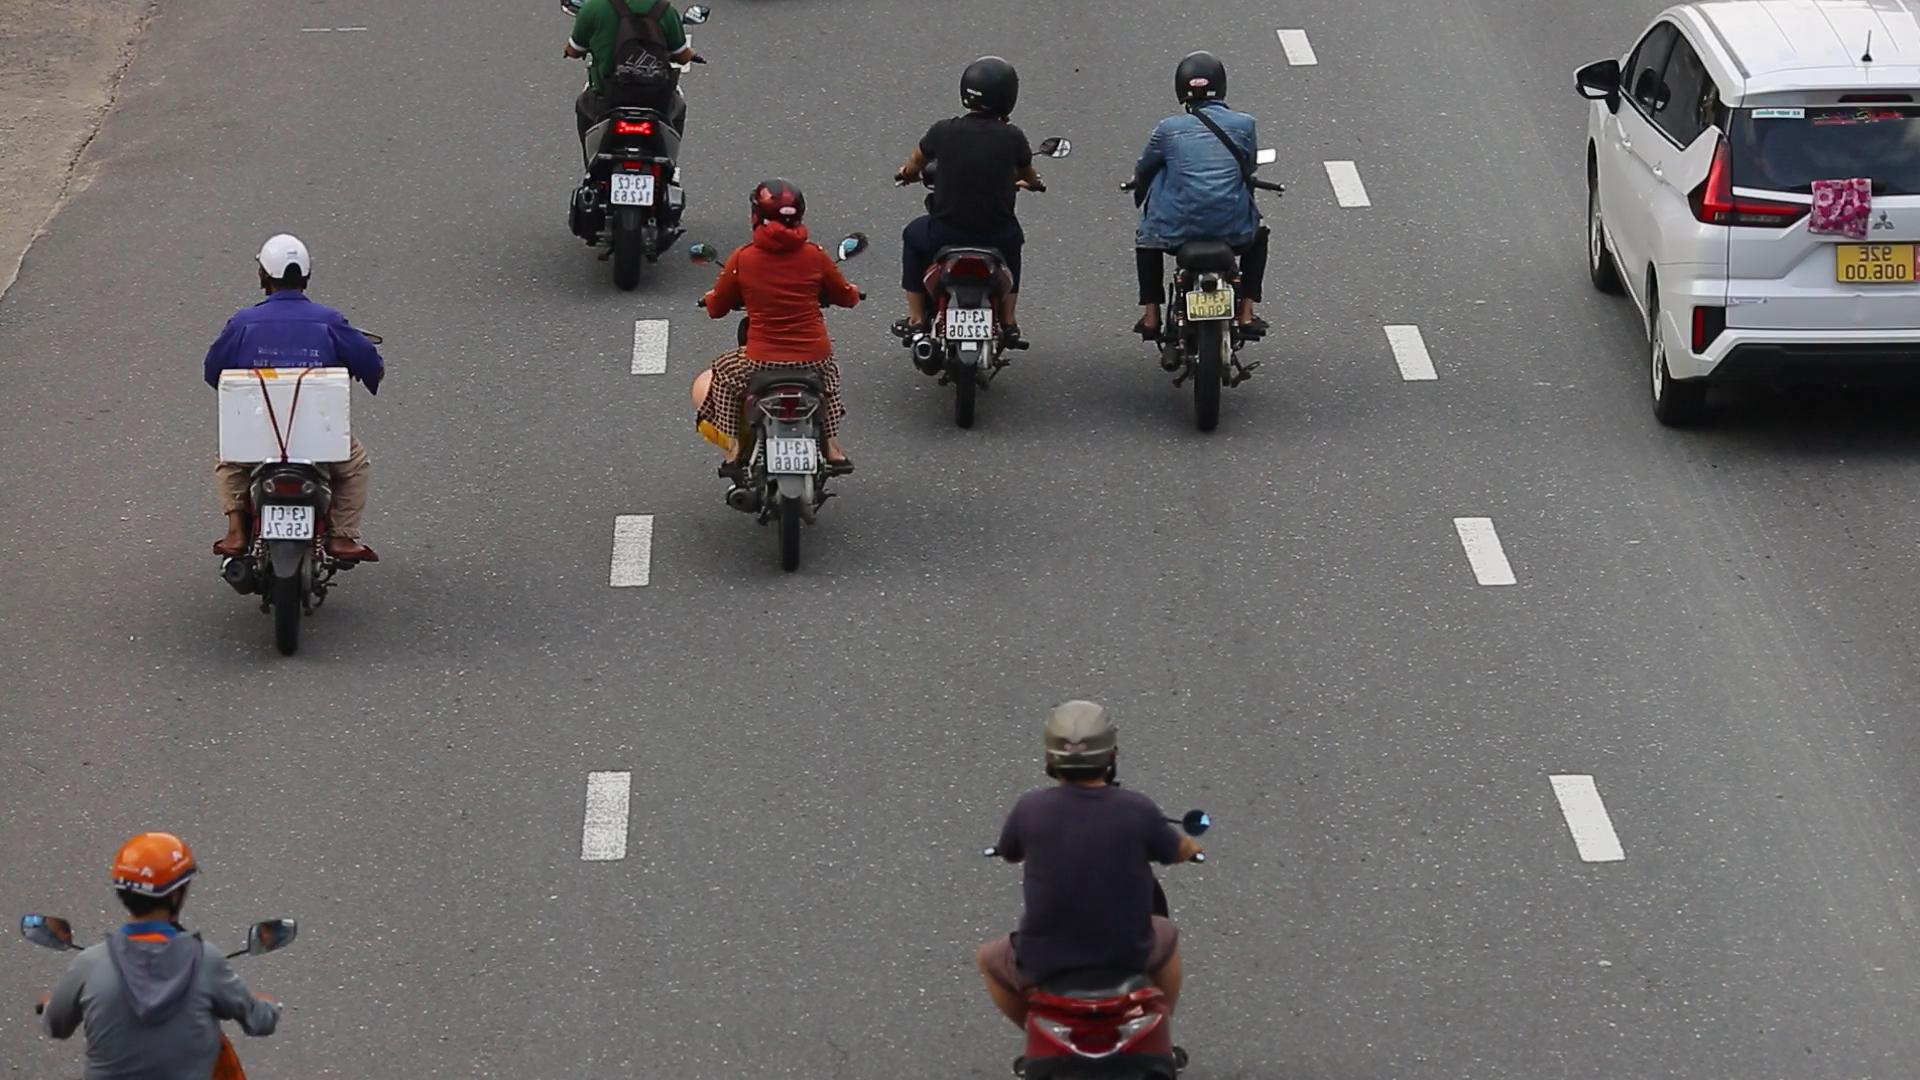motobike: (182, 224, 393, 675), (683, 174, 870, 583), (882, 55, 1079, 431), (1114, 45, 1288, 442)
